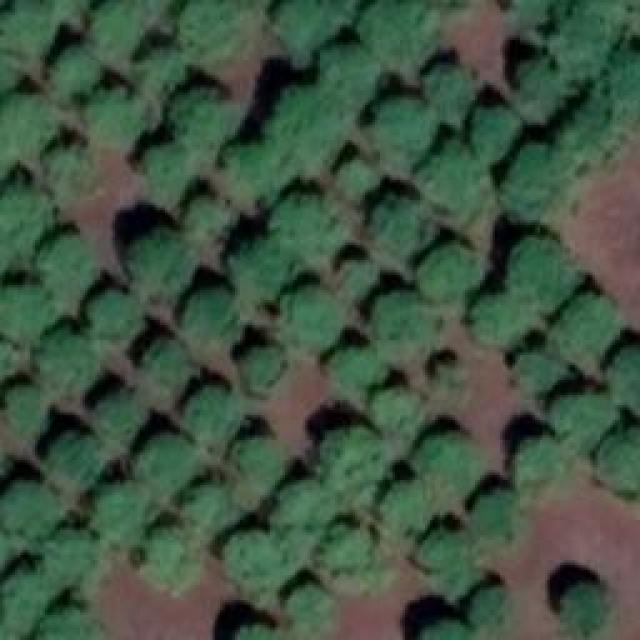Tree: (265, 0, 351, 67), (83, 0, 171, 62), (360, 0, 442, 65), (0, 175, 56, 270), (275, 83, 341, 162), (560, 283, 623, 363), (418, 140, 490, 208), (372, 98, 443, 163), (545, 7, 607, 78), (323, 517, 383, 589), (183, 3, 261, 58), (283, 290, 346, 355), (510, 238, 582, 294), (90, 78, 148, 147), (225, 133, 288, 195), (550, 396, 625, 448), (508, 148, 560, 223), (225, 530, 287, 592), (278, 483, 337, 546), (32, 323, 89, 388), (474, 293, 542, 346), (325, 425, 386, 484), (143, 532, 204, 591), (92, 485, 151, 545), (0, 563, 47, 638), (133, 230, 192, 289), (420, 248, 483, 303), (597, 40, 640, 120), (40, 235, 99, 292), (555, 108, 610, 169), (470, 107, 525, 167), (173, 93, 237, 144), (2, 92, 48, 162), (135, 138, 194, 192), (318, 44, 379, 96), (420, 530, 475, 586), (275, 194, 332, 248), (365, 388, 423, 441), (380, 196, 436, 250), (375, 295, 439, 342), (233, 243, 295, 290), (140, 435, 199, 484), (2, 0, 59, 50), (2, 280, 49, 340), (598, 433, 640, 500), (560, 583, 614, 635), (472, 493, 529, 542), (45, 432, 105, 478), (187, 387, 245, 434), (520, 350, 574, 400), (184, 288, 238, 338), (55, 44, 105, 98), (135, 45, 192, 92), (186, 483, 240, 532), (423, 433, 474, 482), (88, 292, 141, 339), (48, 535, 100, 582), (515, 443, 563, 491), (428, 63, 475, 112), (10, 483, 54, 534), (40, 140, 91, 184), (385, 483, 432, 530), (95, 385, 142, 431), (285, 590, 335, 633), (233, 435, 285, 476), (0, 380, 41, 431), (143, 338, 190, 381), (335, 350, 383, 389), (40, 610, 103, 639), (582, 0, 639, 32), (470, 583, 511, 626), (615, 342, 640, 410), (188, 198, 235, 234), (243, 350, 281, 391), (343, 160, 380, 202), (520, 58, 560, 94), (423, 620, 475, 640), (343, 263, 380, 291), (514, 0, 561, 21), (53, 0, 104, 19), (430, 358, 467, 384), (0, 40, 19, 88), (235, 625, 278, 640)
